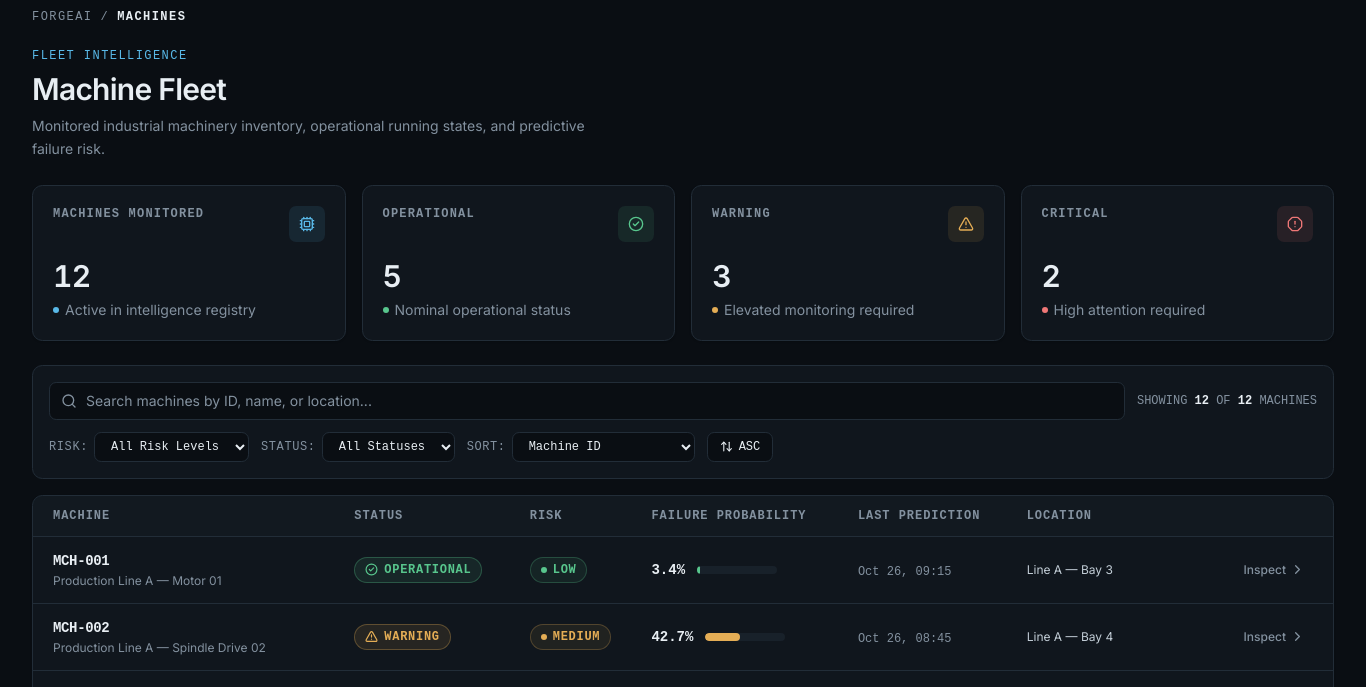
Test case: Machine Fleet Experience (Part 8) › renders an empty state with a reset action when search yields zero results
Type "NONEXISTENT_MACHINE_XYZ" into the search field with placeholder "Search machines by ID, name, or location..." at (587, 400), box [49,382,1125,420]
(page scrolled)
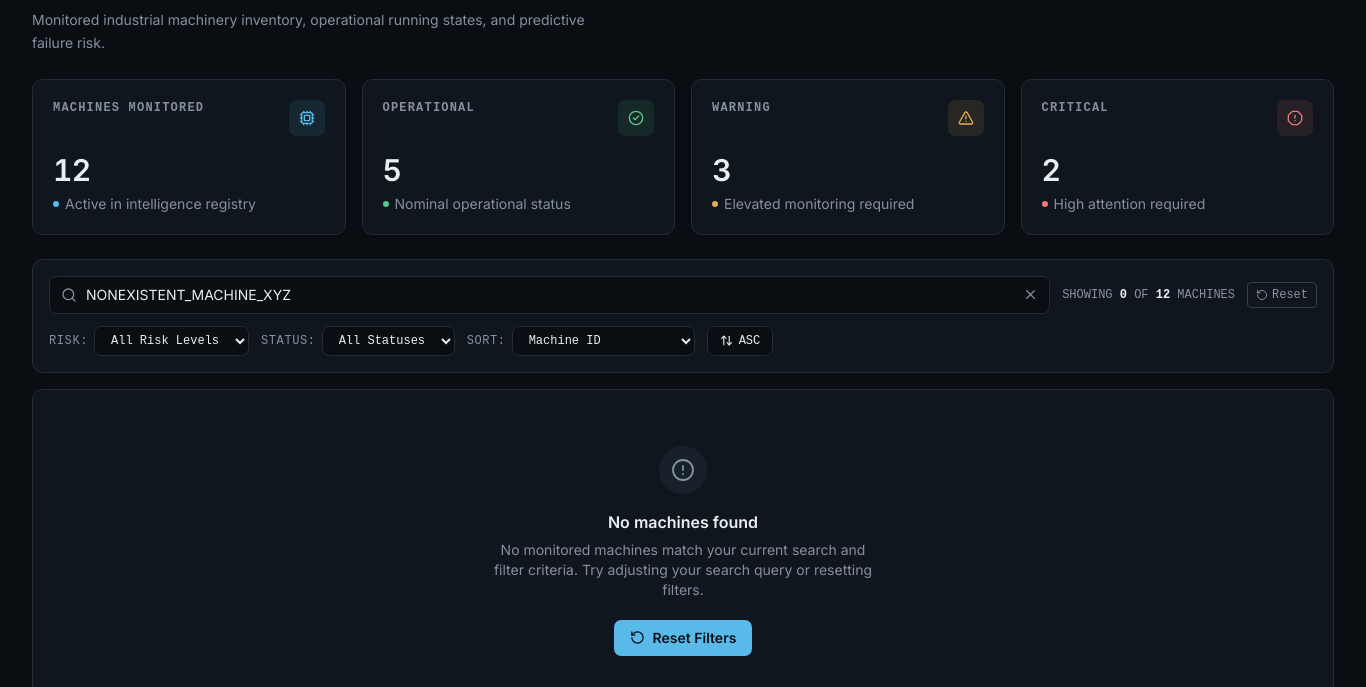
Expected: the heading "No machines found" is shown, [608,510,758,534]
Expected: the text "No monitored machines match your current search" is shown, [494,540,872,598]
Click Reset Filters button
Click the button "Reset Filters" at (683, 638), box [614,620,752,656]
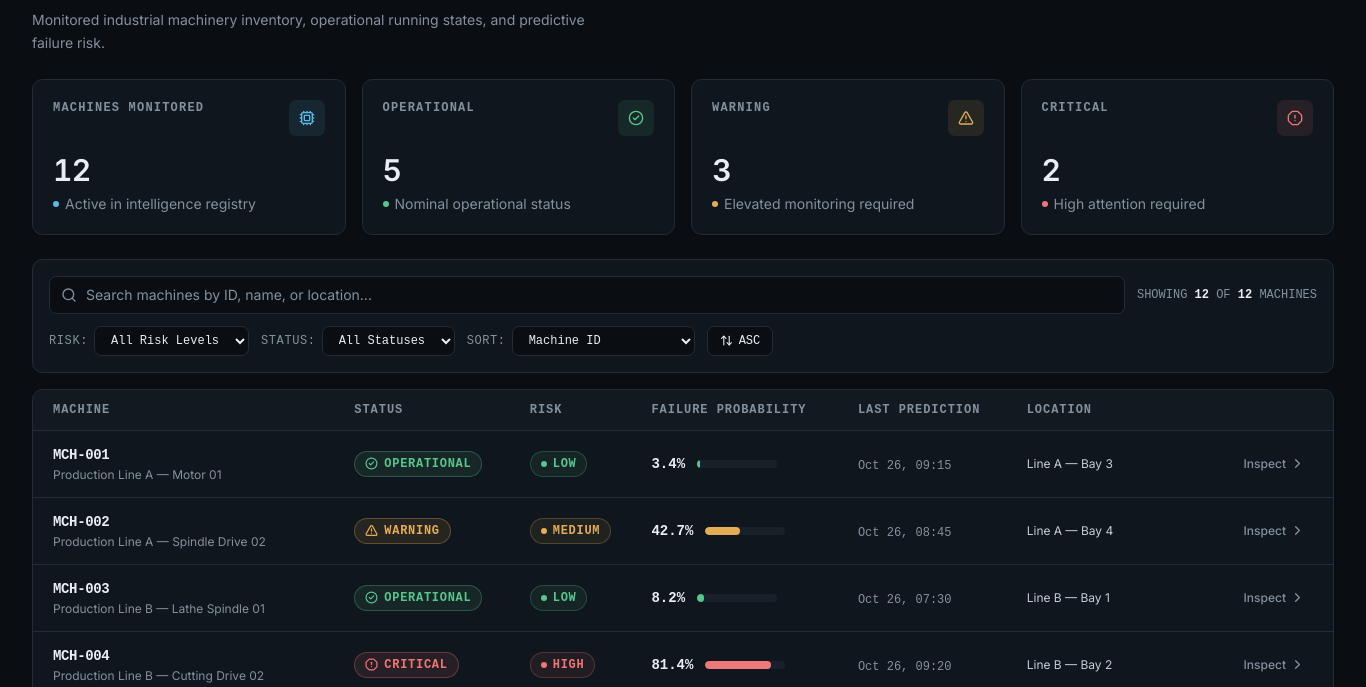
Expected: the text "MCH-001" is shown, [53,446,109,462]
